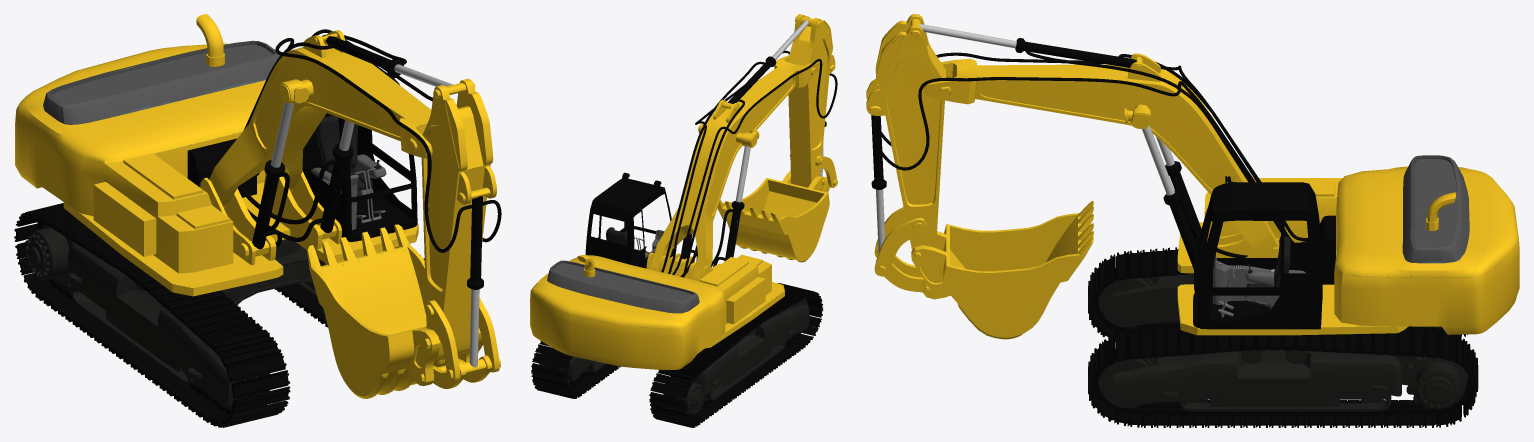
The model's file is exc_digger.glb.
The picture shows the model from 3 angles, left to right: view 1: azimuth 30°, elevation 25°; view 2: azimuth 150°, elevation 25°; view 3: azimuth 270°, elevation 25°; orthographic projection. The views are drawn at different scales.
Parts seen in each view (by area): view 1: Object_3, Object_7, Object_4, Object_5, Object_2, Object_6; view 2: Object_3, Object_7, Object_4, Object_5, Object_2, Object_6; view 3: Object_3, Object_4, Object_7, Object_2, Object_5, Object_6.
Boxes of the visible parts, x1,y1,x2,y2 form: Object_3: (15, 14, 500, 398); Object_7: (14, 203, 424, 427); Object_4: (25, 224, 325, 409); Object_5: (187, 29, 501, 367); Object_2: (302, 64, 417, 241); Object_6: (310, 115, 386, 230); Object_3: (530, 14, 837, 369); Object_7: (531, 283, 823, 427); Object_4: (538, 298, 809, 414); Object_5: (661, 20, 837, 277); Object_2: (585, 172, 674, 268); Object_6: (606, 227, 664, 257); Object_3: (866, 14, 1519, 339); Object_4: (1098, 273, 1471, 411); Object_7: (1088, 247, 1478, 427); Object_2: (1193, 176, 1322, 329); Object_5: (871, 23, 1335, 284); Object_6: (1213, 236, 1305, 317).
Bounding box in the file's own units: 3.88 × 5.95 × 9.92.
6 materials, 6 textured.
